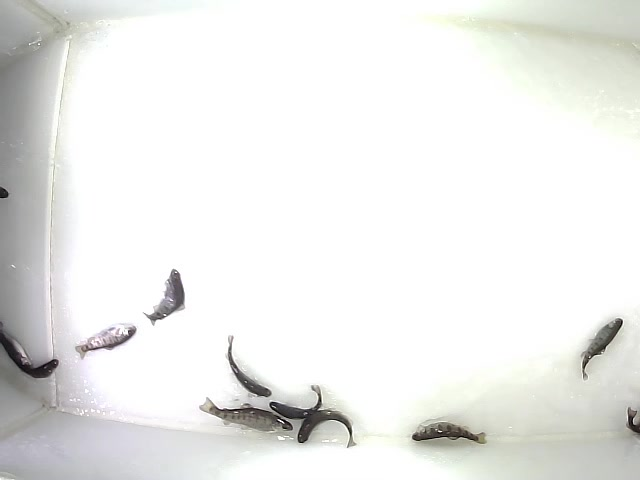fish: (197, 397, 293, 434), (223, 333, 272, 399), (579, 317, 625, 383), (141, 268, 187, 328), (296, 407, 359, 450), (73, 321, 138, 361), (269, 383, 323, 421), (410, 420, 488, 446)
